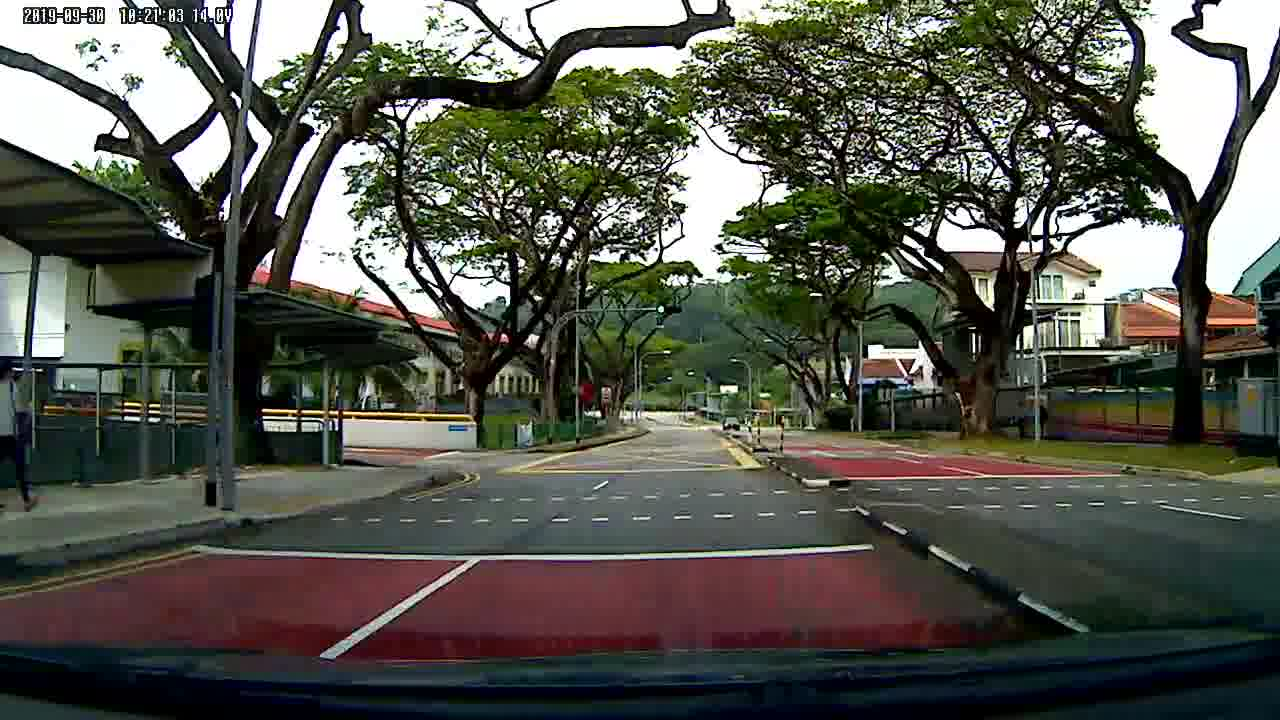car: (721, 413, 743, 433)
